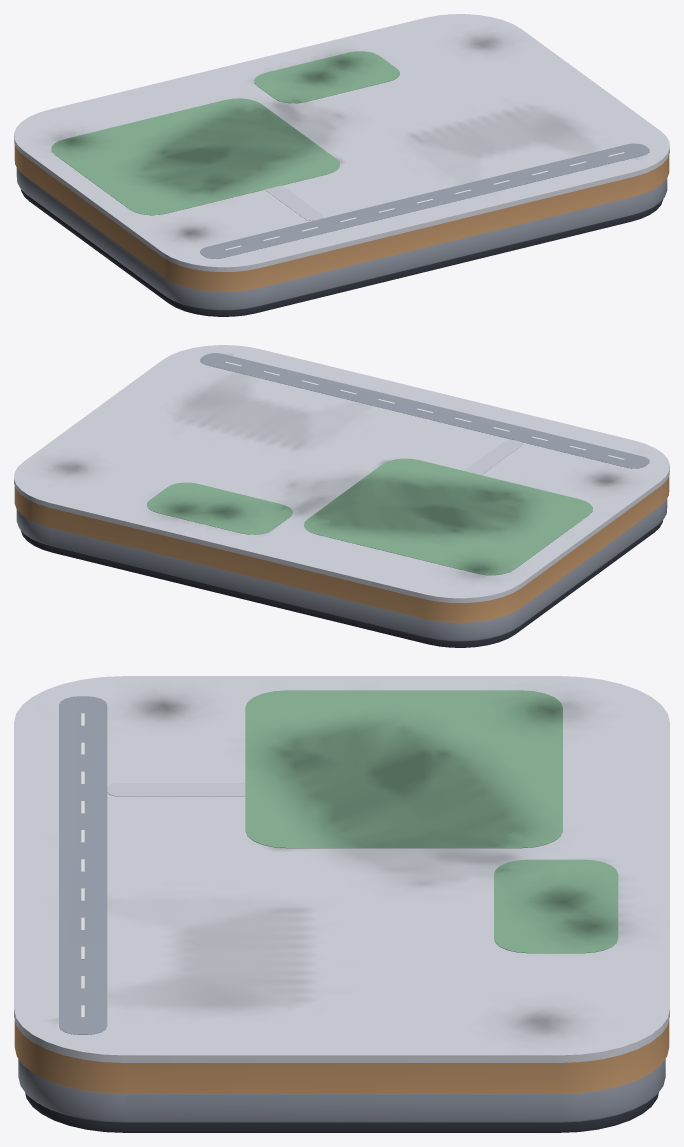
Rendered from island.envelope.glb.
3 renders of one model, top to bottom at view 1: azimuth 30°, elevation 25°; view 2: azimuth 150°, elevation 25°; view 3: azimuth 270°, elevation 25°, orthographic. The views are drawn at different scales.
Visible parts, largest first — view 1: island.ground.001, island.foliage, island.mid, island.warm, island.graphite, island.light; view 2: island.ground.001, island.foliage, island.mid, island.warm, island.graphite, island.light; view 3: island.ground.001, island.foliage, island.mid, island.warm, island.graphite, island.light.
Boxes of the visible parts, bbox=[...] form: island.ground.001: bbox=[14, 14, 669, 271]; island.foliage: bbox=[51, 51, 399, 215]; island.mid: bbox=[16, 143, 667, 310]; island.warm: bbox=[14, 145, 669, 291]; island.graphite: bbox=[21, 190, 663, 316]; island.light: bbox=[265, 185, 323, 220]; island.ground.001: bbox=[14, 345, 669, 602]; island.foliage: bbox=[147, 458, 592, 575]; island.mid: bbox=[16, 353, 667, 641]; island.warm: bbox=[14, 476, 669, 622]; island.graphite: bbox=[20, 521, 662, 647]; island.light: bbox=[464, 439, 522, 475]; island.ground.001: bbox=[14, 676, 669, 1062]; island.foliage: bbox=[245, 690, 618, 953]; island.mid: bbox=[18, 696, 665, 1122]; island.warm: bbox=[14, 1020, 669, 1093]; island.graphite: bbox=[25, 1092, 658, 1132]; island.light: bbox=[107, 783, 245, 796].
Size of the model in its own units: 13 by 1.33 by 9.5.
